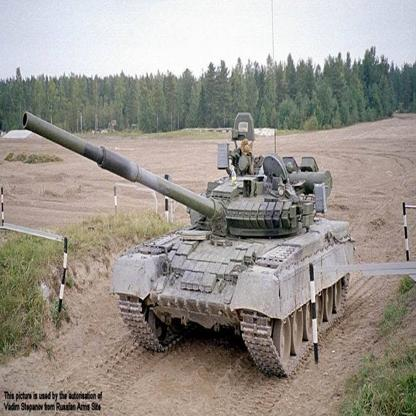Tank: (21, 108, 374, 381)
